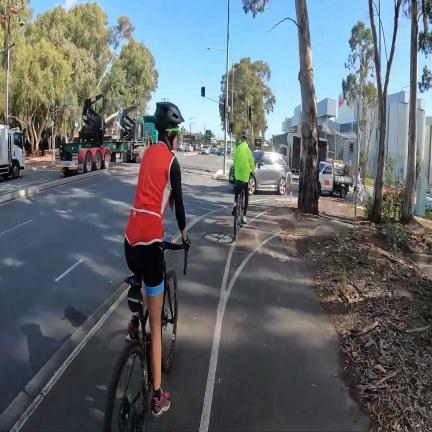Bike_Lane: (146, 210, 369, 432), (22, 302, 129, 430), (248, 204, 265, 223)
